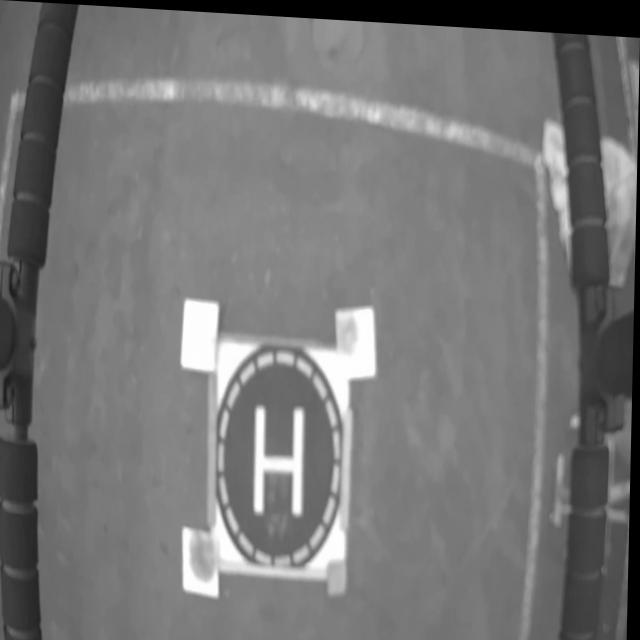Helipad: (257, 403, 306, 513)
